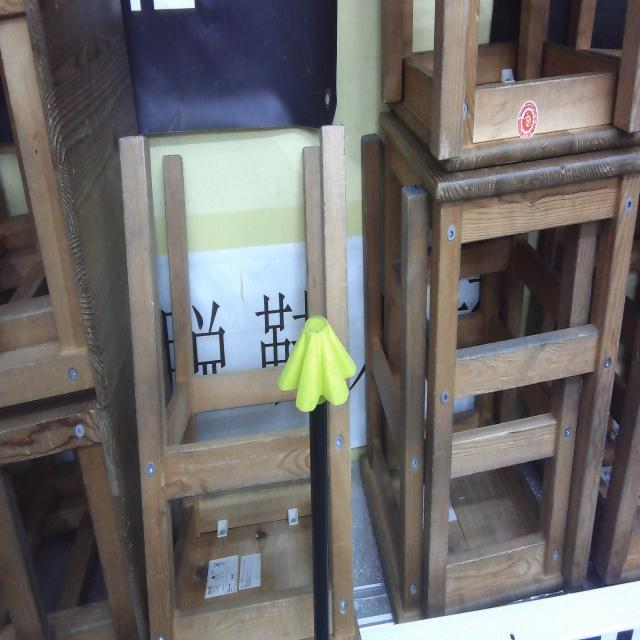Yellow-Stake-Head: (276, 315, 356, 412)
